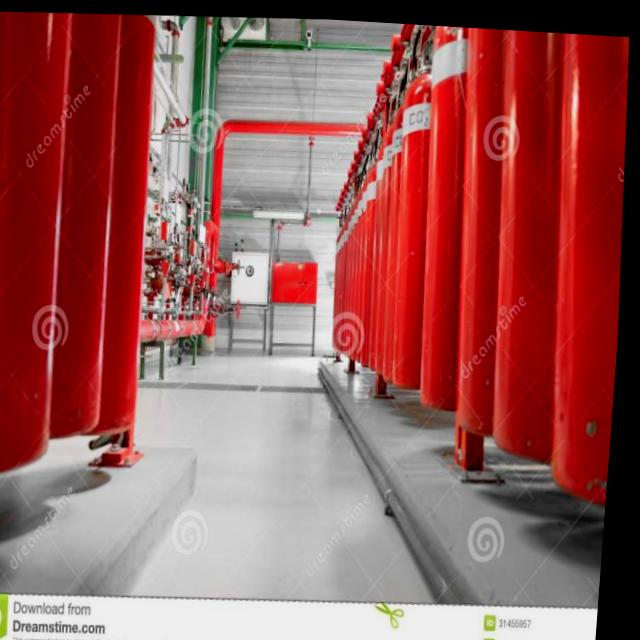FireExtinguisher: (0, 7, 169, 450), (403, 20, 577, 425), (442, 22, 600, 442), (476, 23, 621, 465), (0, 7, 136, 471), (536, 26, 640, 514), (0, 8, 92, 493), (382, 19, 480, 401)
